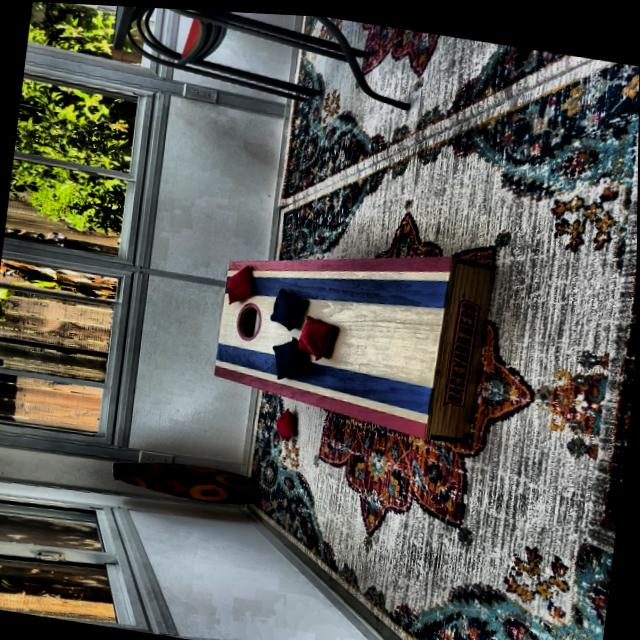blue-bean-bag: (268, 282, 310, 329), (269, 330, 309, 379)
board: (214, 245, 447, 414)
hole: (233, 296, 265, 340)
red-bean-bag: (294, 309, 339, 358), (225, 258, 258, 304), (275, 401, 300, 436)
